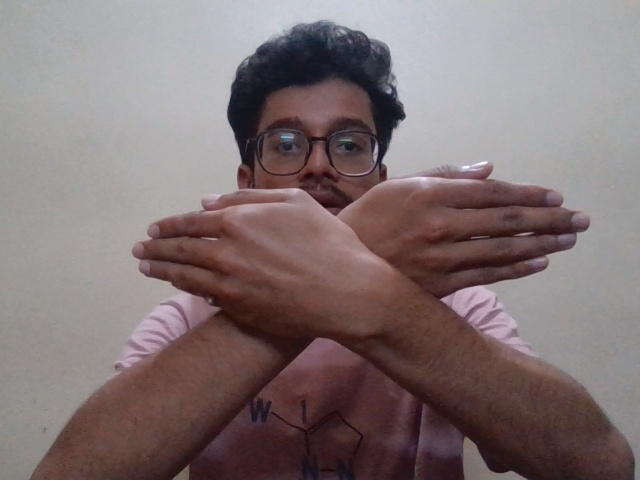feel: (107, 150, 592, 365)
